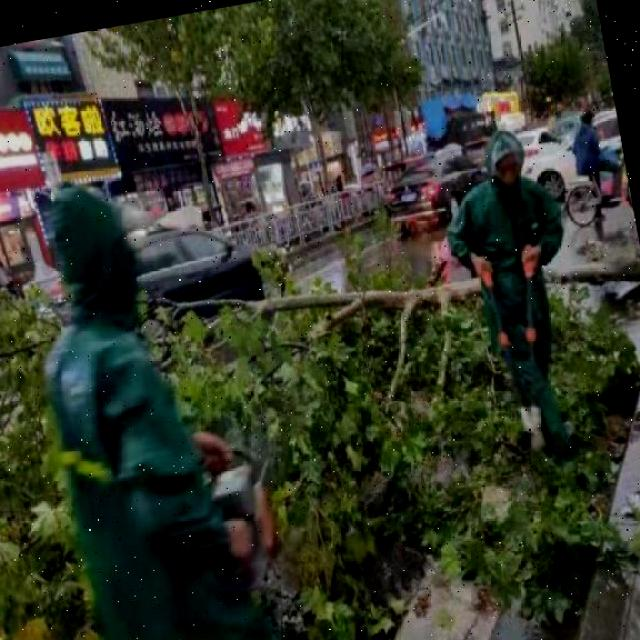fallen_object: (135, 189, 640, 379)
